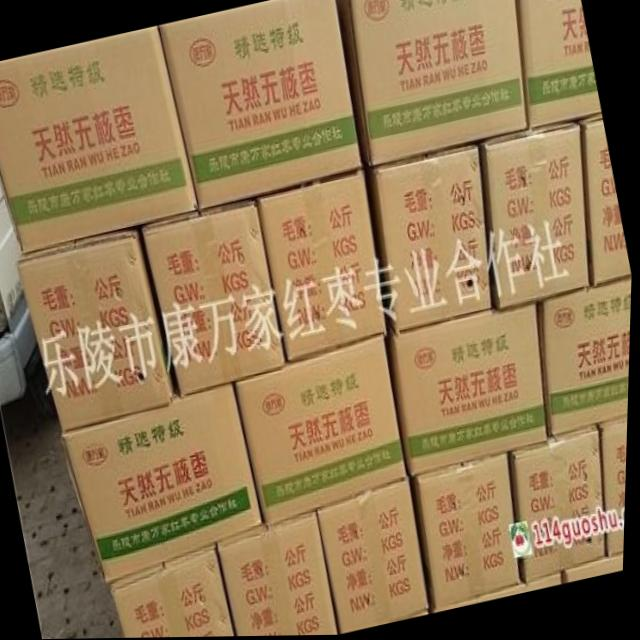box: (0, 27, 199, 255), (159, 0, 362, 207), (64, 380, 265, 587), (236, 339, 409, 528), (19, 226, 176, 432), (338, 0, 529, 162), (144, 197, 287, 397), (392, 301, 552, 474), (255, 172, 388, 362), (370, 144, 494, 333), (479, 122, 591, 315), (320, 473, 433, 632), (416, 455, 524, 614), (538, 280, 633, 443), (222, 508, 342, 637), (511, 428, 607, 588), (111, 544, 236, 638), (518, 0, 602, 131), (572, 113, 632, 289), (599, 418, 630, 556)
